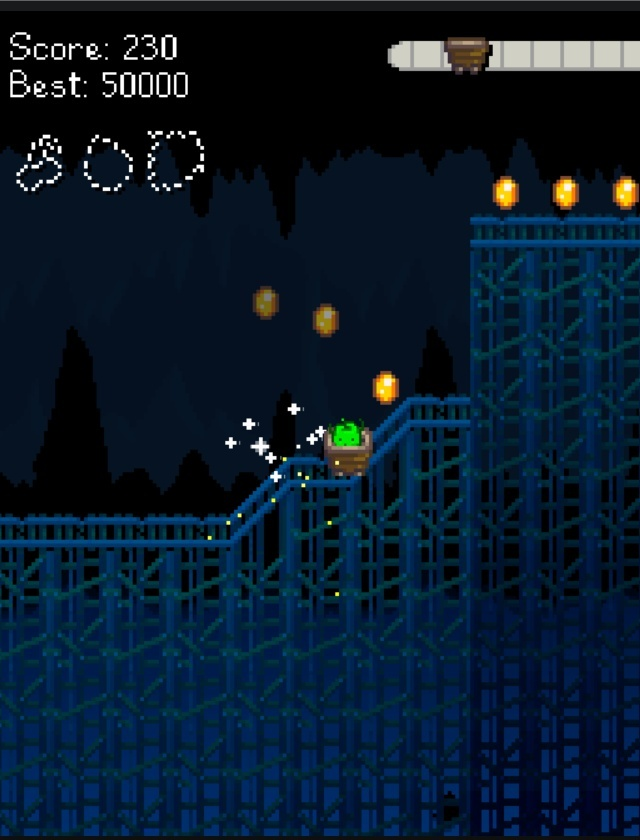coins: (252, 286, 278, 319), (313, 304, 338, 337), (373, 371, 398, 404), (553, 177, 578, 210), (614, 177, 639, 209), (494, 176, 518, 209)
minecart: (314, 417, 372, 479)
tracks: (0, 458, 358, 608), (371, 398, 468, 468)
